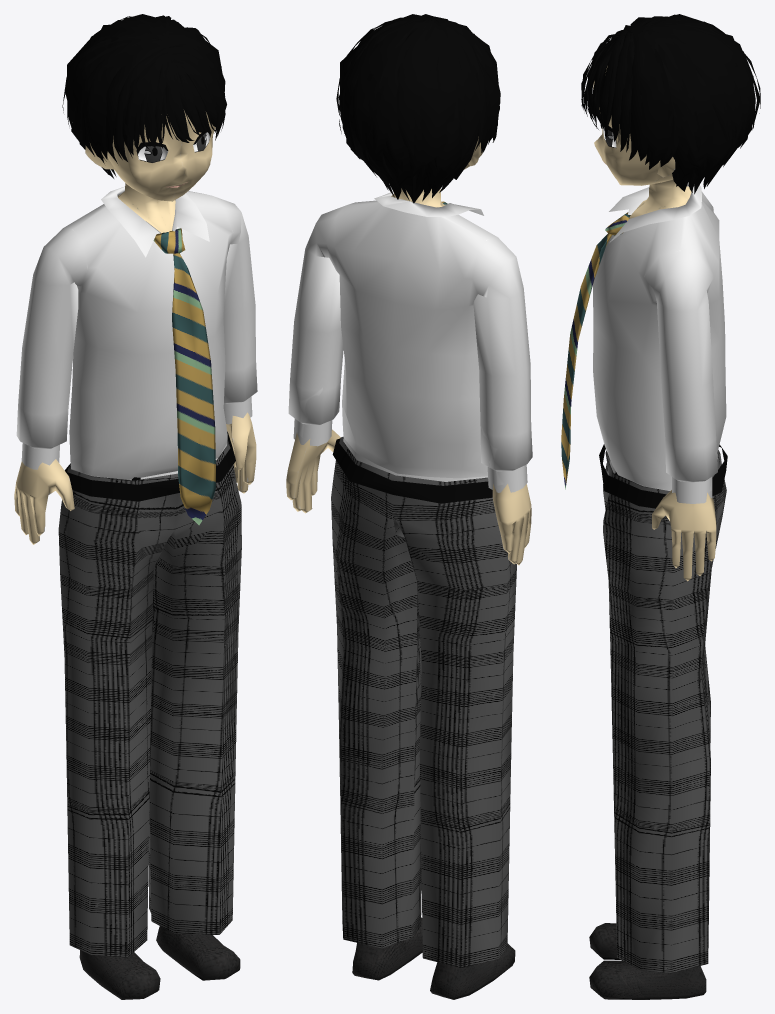
File: boy.fbx
The picture shows the model from 3 angles, left to right: view 1: azimuth 30°, elevation 25°; view 2: azimuth 150°, elevation 25°; view 3: azimuth 270°, elevation 25°; orthographic projection.
Visible parts, largest first — view 1: others, body; view 2: others, body; view 3: others, body.
Boxes of the visible parts, x1=… form: others: x1=16, y1=133, x2=257, y2=999; body: x1=14, y1=14, x2=256, y2=544; others: x1=288, y1=191, x2=532, y2=999; body: x1=286, y1=14, x2=531, y2=565; others: x1=589, y1=130, x2=727, y2=999; body: x1=561, y1=14, x2=760, y2=581.
Bounding box in the file's own units: 45.14 × 174 × 33.25.
